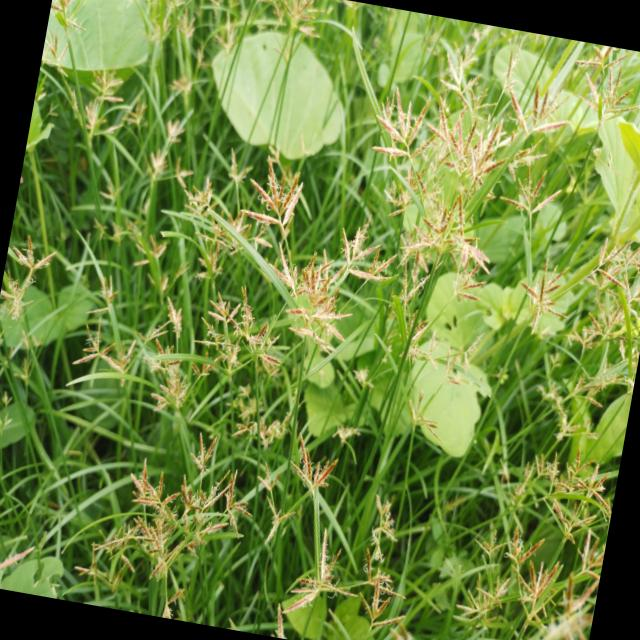cyperus: (334, 73, 520, 374), (221, 150, 369, 365), (100, 412, 262, 594), (488, 446, 619, 640), (260, 428, 372, 606), (28, 0, 147, 145), (160, 140, 260, 285), (564, 235, 640, 418), (78, 265, 166, 391), (447, 516, 524, 635), (191, 287, 279, 387), (350, 496, 415, 624), (142, 295, 208, 414), (220, 380, 298, 458), (572, 41, 640, 130), (0, 236, 58, 324), (248, 456, 300, 541), (510, 84, 578, 148), (241, 0, 330, 47), (511, 252, 568, 325), (146, 113, 197, 191), (434, 34, 484, 102), (0, 511, 40, 592), (507, 166, 558, 228), (92, 180, 141, 244), (398, 386, 450, 442), (115, 95, 156, 152), (132, 224, 170, 275), (162, 67, 203, 112), (171, 3, 197, 40)
